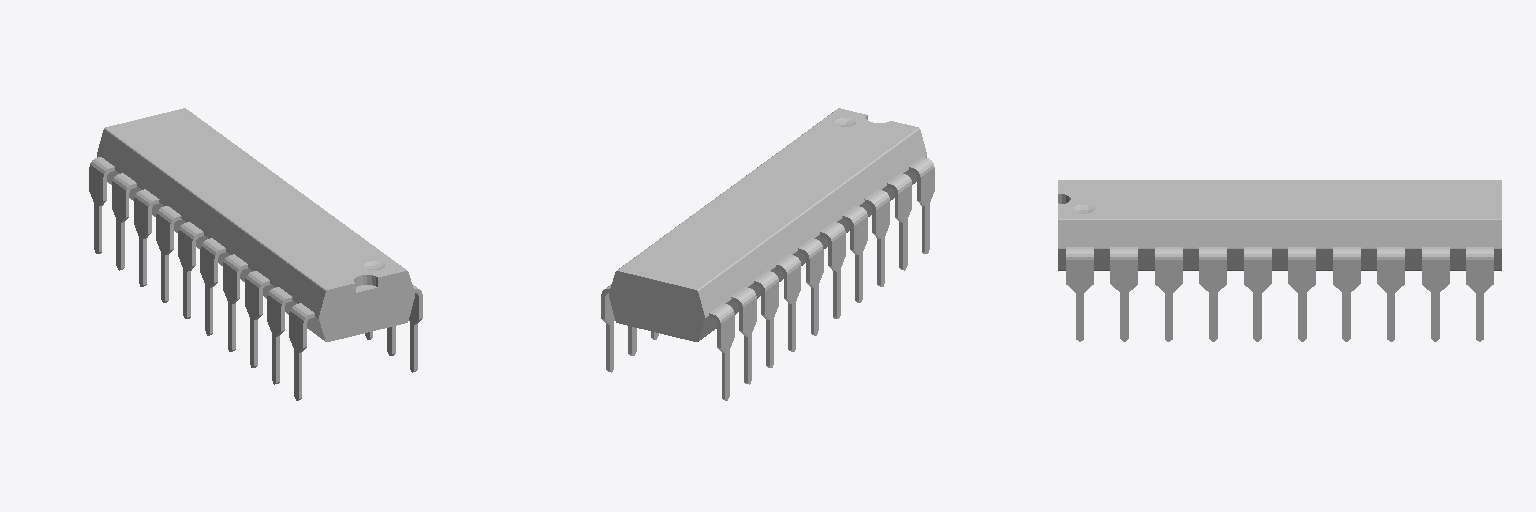
3 renders of one model, left to right at view 1: azimuth 30°, elevation 25°; view 2: azimuth 150°, elevation 25°; view 3: azimuth 270°, elevation 25°, orthographic.
Visible parts, largest first — view 1: Volumenkörper1; view 2: Volumenkörper1; view 3: Volumenkörper1.
Boxes of the visible parts, x1=… form: Volumenkörper1: x1=89, y1=108, x2=422, y2=400; Volumenkörper1: x1=601, y1=108, x2=934, y2=400; Volumenkörper1: x1=1058, y1=180, x2=1501, y2=341.
Bounding box in the file's own units: 7.87 × 7.17 × 25.4.